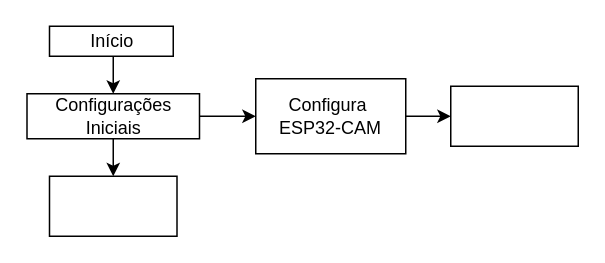
Some shapes in this 605 by 263 pixel diagram are drawn without their labels. Each missing label, with the centre of its shape:
Configura Periféricos: the point at 513,115
Espera por Evento: the point at 112,205
